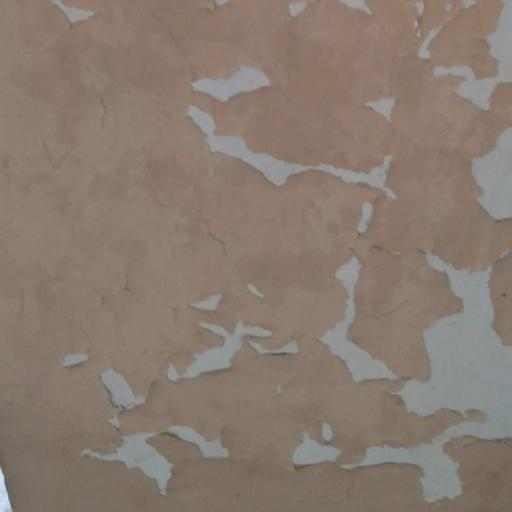peeling: (251, 241, 512, 512), (49, 258, 282, 512), (188, 78, 422, 240), (376, 2, 512, 224)
